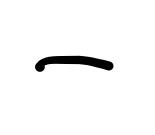minus: (35, 54, 113, 76)
